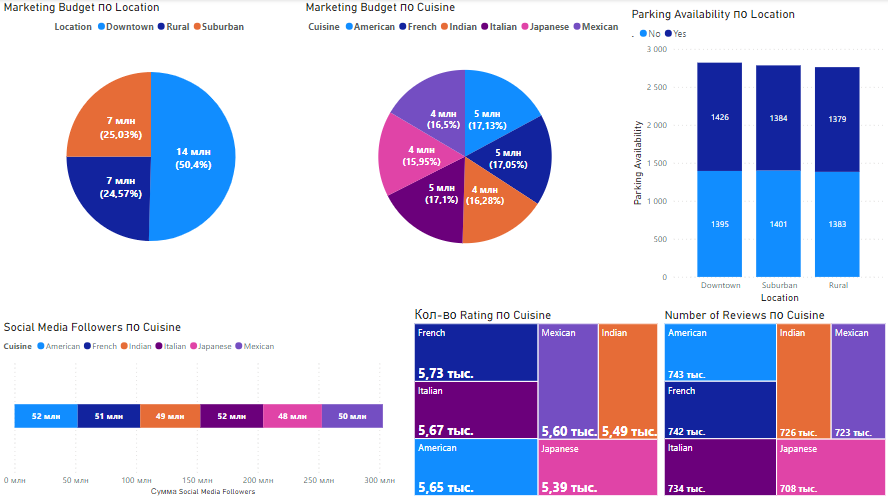

The page's visual inventory and layout, read from the dashboard file:
{"tool":"powerbi","page":{"name":"социальное","canvas":[1280,720],"ordinal":1},"visuals":[{"type":"actionButton","box":[0,0,100,40],"z":0},{"type":"treemap","title":"Number of Reviews по Cuisine","fields":{"Group":["restaurant_data.Cuisine"],"Values":["Sum(restaurant_data.Number of Reviews)"]},"box":[702.7,443.5,577.4,276.5],"z":2000},{"type":"pieChart","fields":{"Y":["Sum(restaurant_data.Marketing Budget)"],"Series":["restaurant_data.Location"]},"box":[0,0,434.9,406.1],"z":4000},{"type":"pieChart","fields":{"Y":["Sum(restaurant_data.Marketing Budget)"],"Series":["restaurant_data.Cuisine"]},"box":[434.9,0,469.4,406.1],"z":5000},{"type":"columnChart","title":"Parking Availability по Location","fields":{"Category":["restaurant_data.Location"],"Series":["restaurant_data.Parking Availability"],"Y":["CountNonNull(restaurant_data.Parking Availability)"]},"box":[904.3,10.1,375.8,433.4],"z":6000},{"type":"columnChart","title":"Social Media Followers по Cuisine","fields":{"Category":["restaurant_data.Cuisine"],"Y":["Sum(restaurant_data.Social Media Followers)"],"Series":["restaurant_data.Cuisine"]},"box":[0,443.5,702.7,276.5],"z":6001}]}

Visuals, with their boxes in screenshot pixels (x1, y1, x2, y2), scaled from the page's 1280x720 canvas onto the 888x499 screenshot:
actionButton: (0,0,69,28)
"Number of Reviews по Cuisine" treemap: (487,307,887,498)
pieChart - Sum(restaurant_data.Marketing Budget) x restaurant_data.Location: (0,0,302,281)
pieChart - Sum(restaurant_data.Marketing Budget) x restaurant_data.Cuisine: (302,0,627,281)
"Parking Availability по Location" columnChart: (627,7,887,307)
"Social Media Followers по Cuisine" columnChart: (0,307,487,498)
